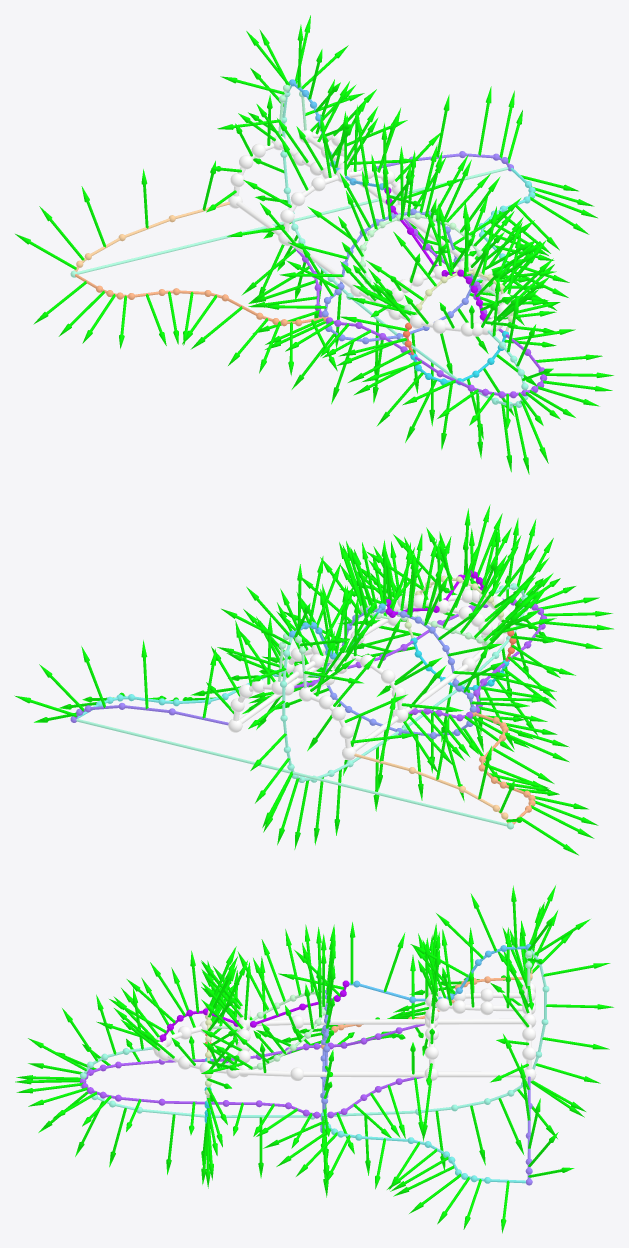
Rendered from t2f_fighter.gltf.
The picture shows the model from 3 angles, top to bottom: view 1: azimuth 30°, elevation 25°; view 2: azimuth 150°, elevation 25°; view 3: azimuth 270°, elevation 25°; orthographic projection. The views are drawn at different scales.
Bounding box in the file's own units: 0.8704 × 0.4672 × 0.8645.
